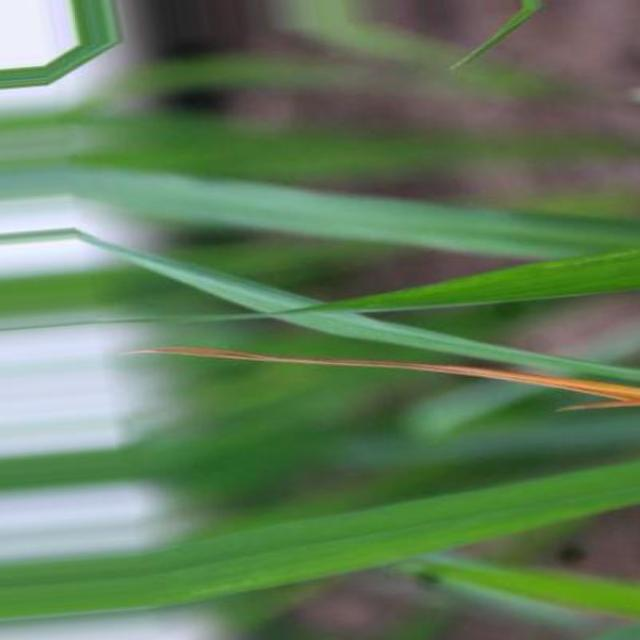Rice Tungro: (133, 346, 640, 409)
